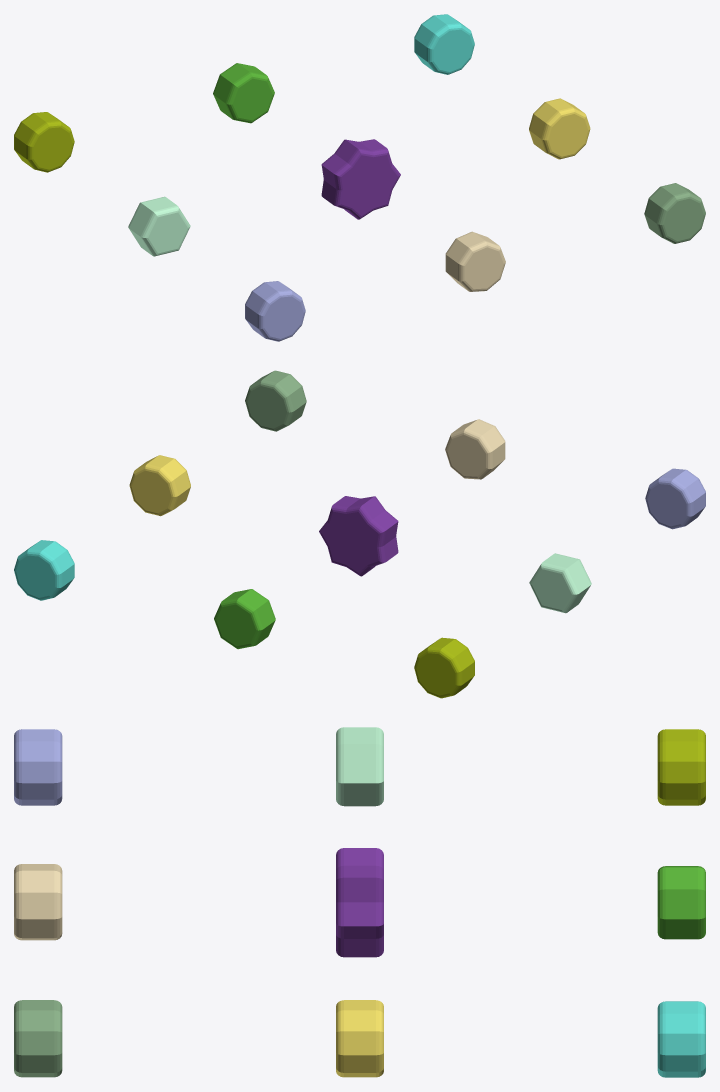
The model's file is Standard_Linear_2023-07-23-20-47-45.gltf.
3 renders of one model, top to bottom at view 1: azimuth 30°, elevation 25°; view 2: azimuth 150°, elevation 25°; view 3: azimuth 270°, elevation 25°, orthographic. The views are drawn at different scales.
Bounding box in the file's own units: 449 × 67.85 × 430.
